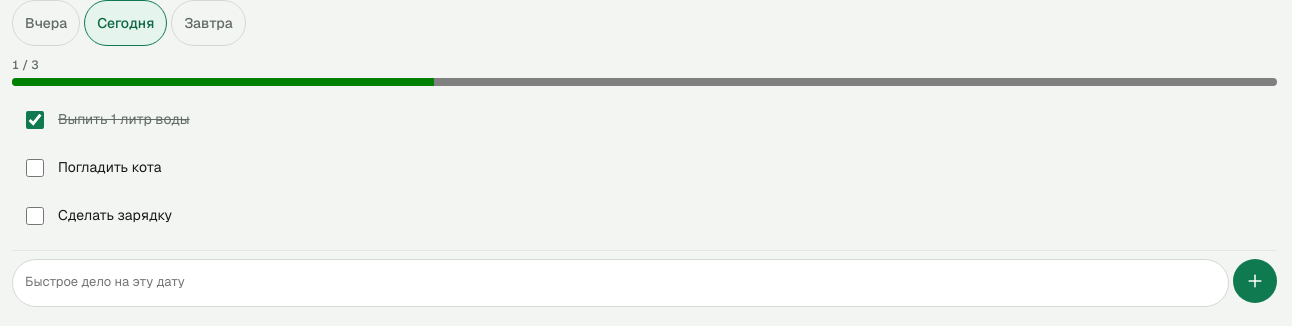
Test case: RoutinesWidget › переключает дату и добавляет быстрое дело
The width and height of the screenshot is (1292, 326).
Click the radio button labelled "Вчера".
click(46, 23)  # box [12, 0, 80, 46]
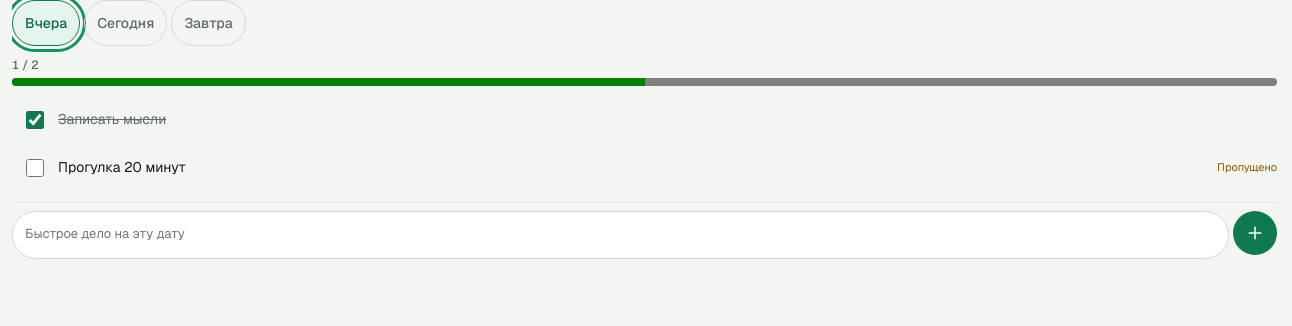
Expected: the text "Пропущено" is shown, [1217, 160, 1277, 175]
Click the radio button labelled "Завтра".
click(209, 23)  # box [171, 0, 246, 46]
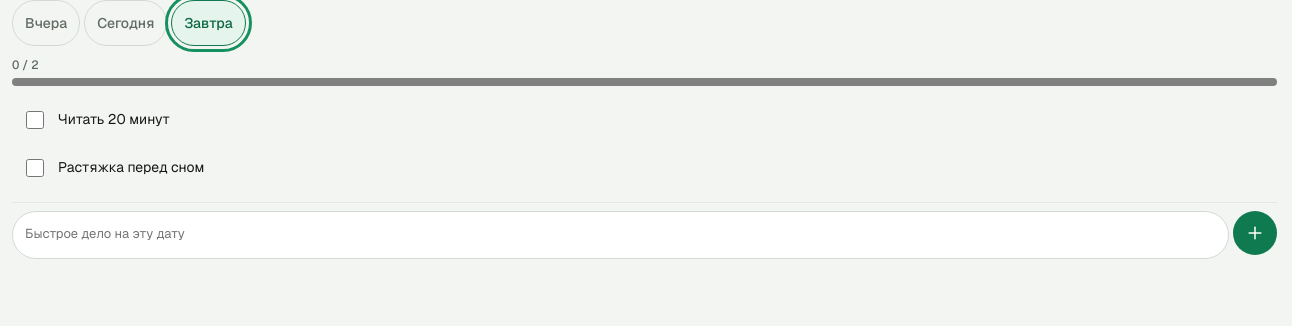
Type "Вынести мусор" into the field labelled "Быстрое дело".
click(620, 235); type("Вынести мусор")  # box [12, 211, 1229, 259]
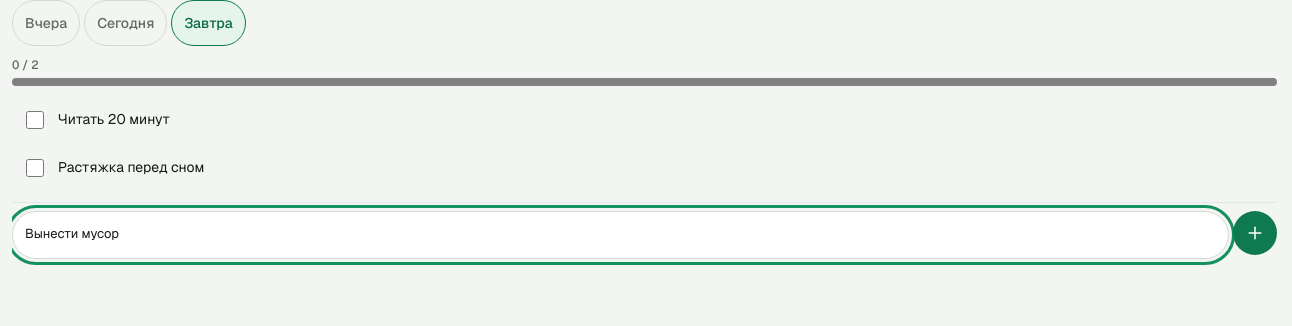
Click the button named "Добавить дело".
click(1255, 233)  # box [1233, 211, 1277, 255]
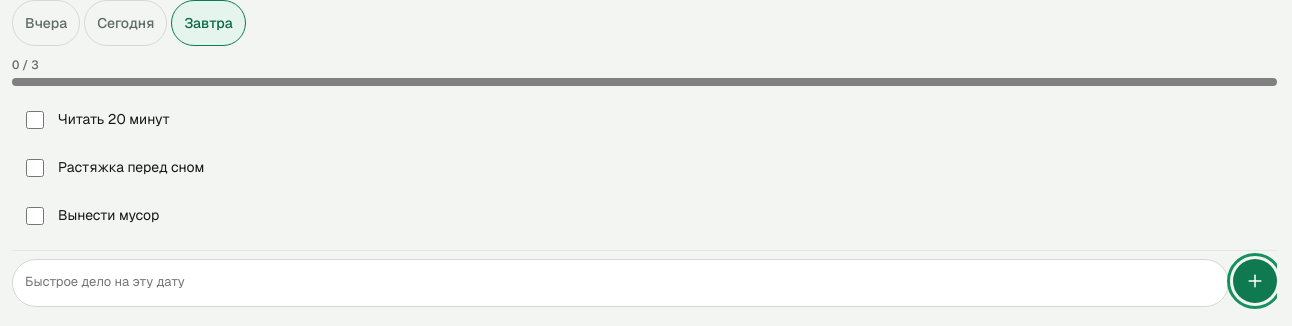
Expected: the checkbox labelled "Вынести мусор" is shown, [26, 207, 44, 225]
